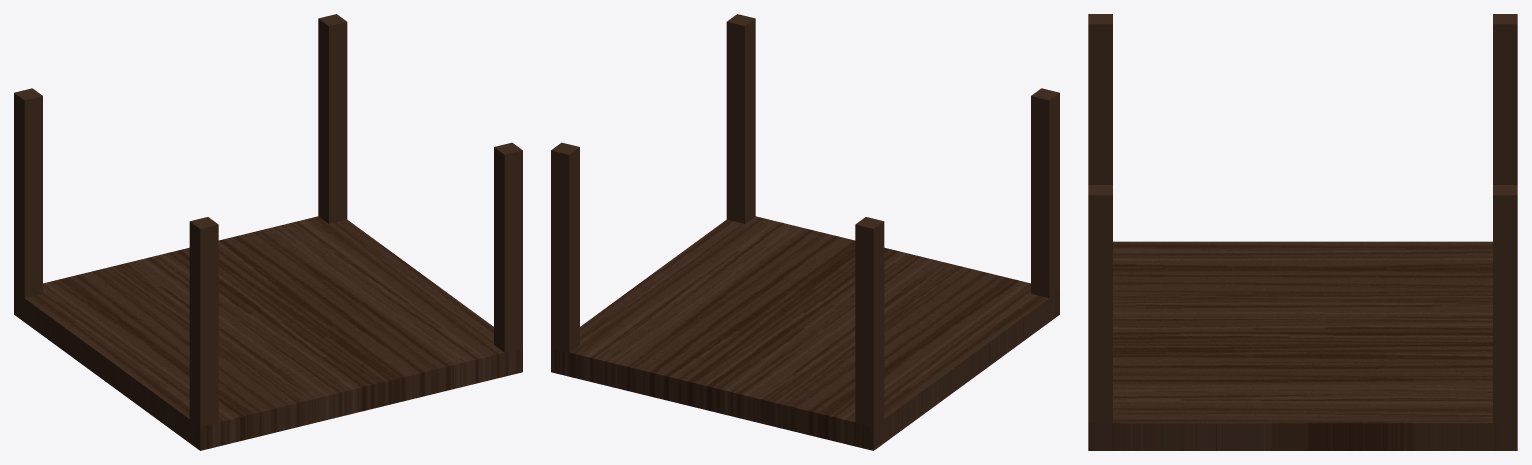
3 renders of one model, left to right at view 1: azimuth 30°, elevation 25°; view 2: azimuth 150°, elevation 25°; view 3: azimuth 270°, elevation 25°, orthographic. The views are drawn at different scales.
Visible parts, largest first — view 1: box_3_2_3; view 2: box_3_2_3; view 3: box_3_2_3.
Boxes of the visible parts, x1=… form: box_3_2_3: x1=14, y1=14, x2=522, y2=450; box_3_2_3: x1=551, y1=14, x2=1059, y2=450; box_3_2_3: x1=1088, y1=14, x2=1517, y2=450.
Bounding box in the file's own units: 0.14 × 0.092 × 0.14.
Materials: 2 (1 with a texture image).
